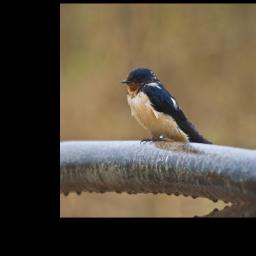Swallow: (119, 61, 213, 152)
